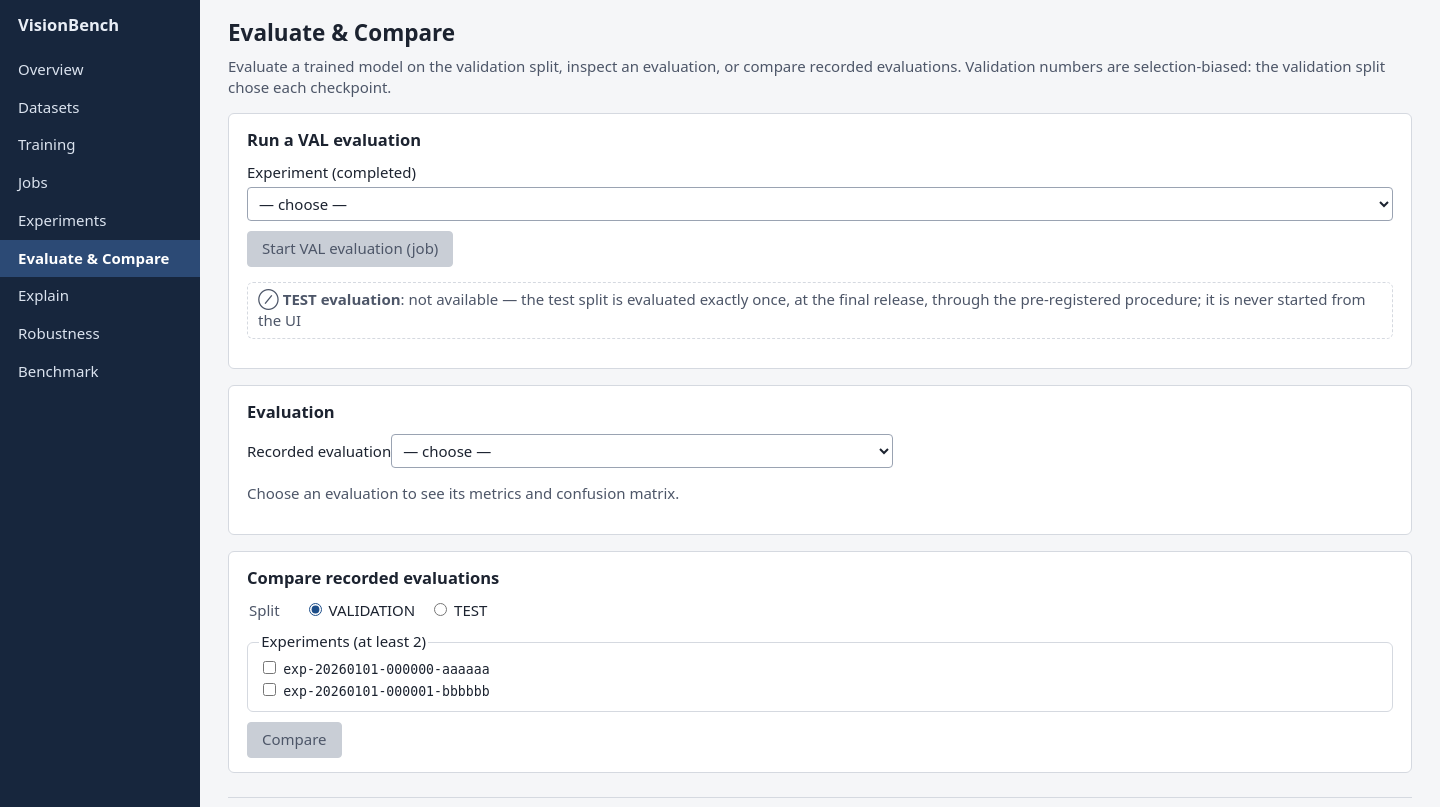
Test: Evaluate & Compare › compares experiments and shows CIs, paired differences, confounds and the bias note
Click the checkbox labelled "exp-20260101-000000-aaaaaa" at [270, 668], box [263,661,276,674]
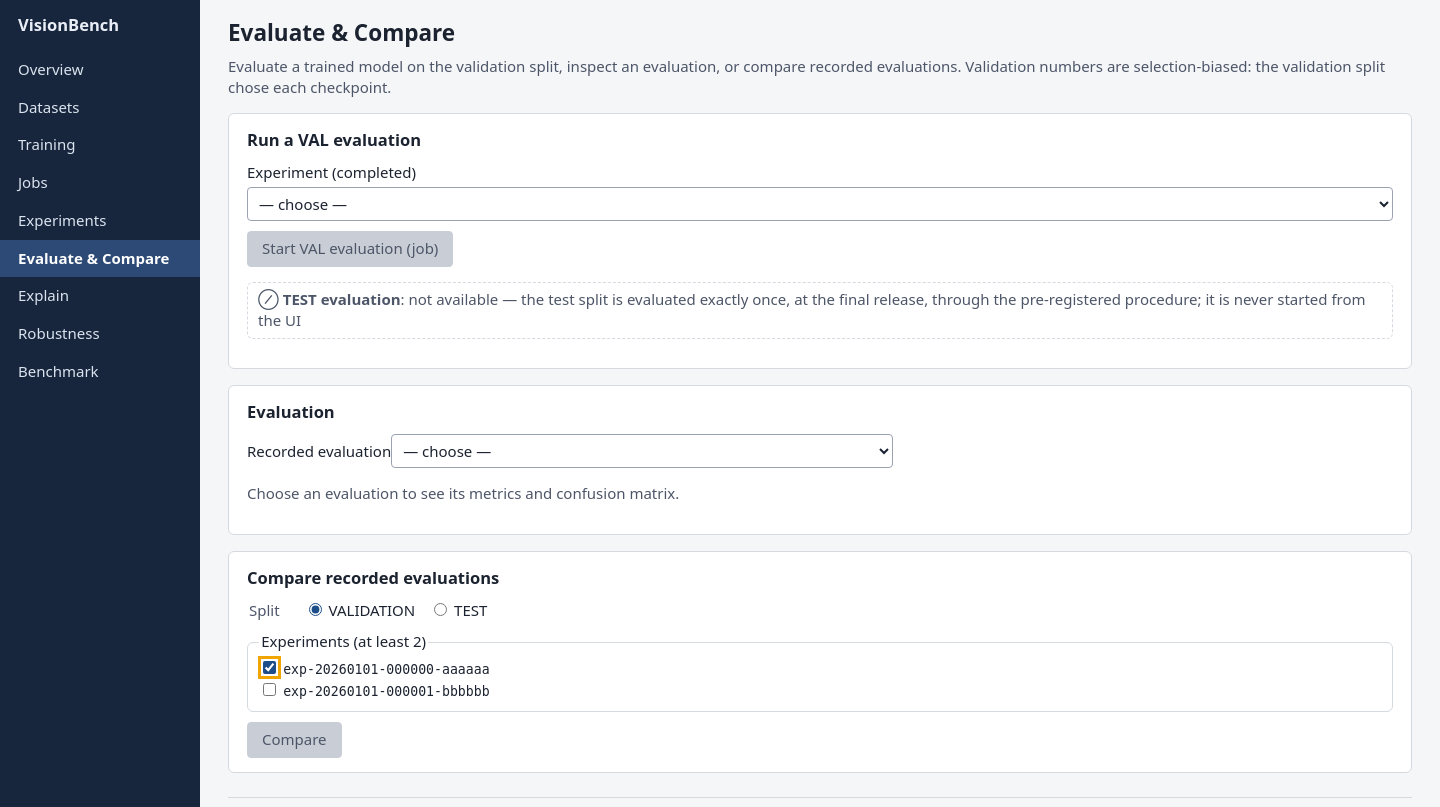
Click the checkbox labelled "exp-20260101-000001-bbbbbb" at [270, 690], box [263,683,276,696]
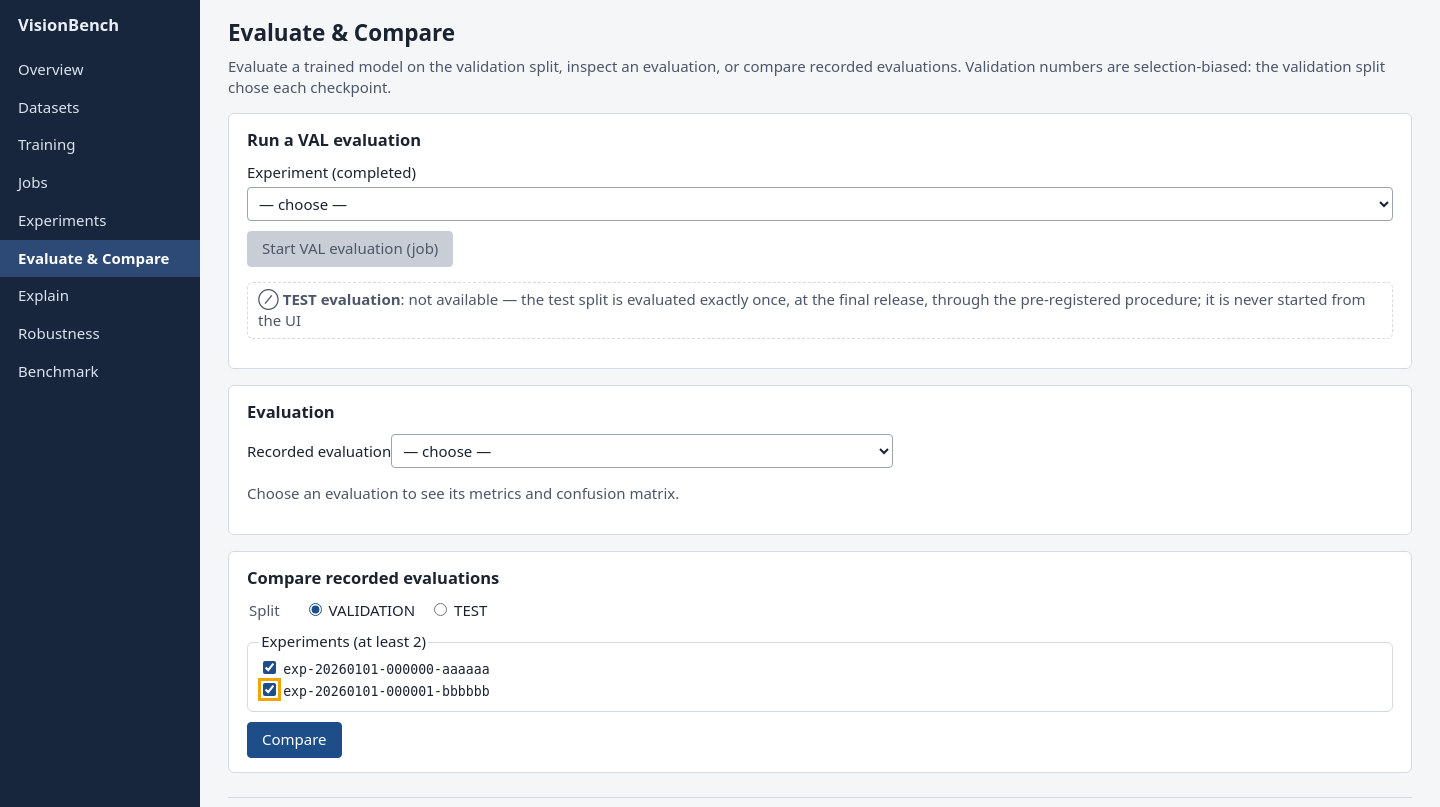
Click the button "Compare" at [294, 740], box [247,722,342,758]
(page scrolled)
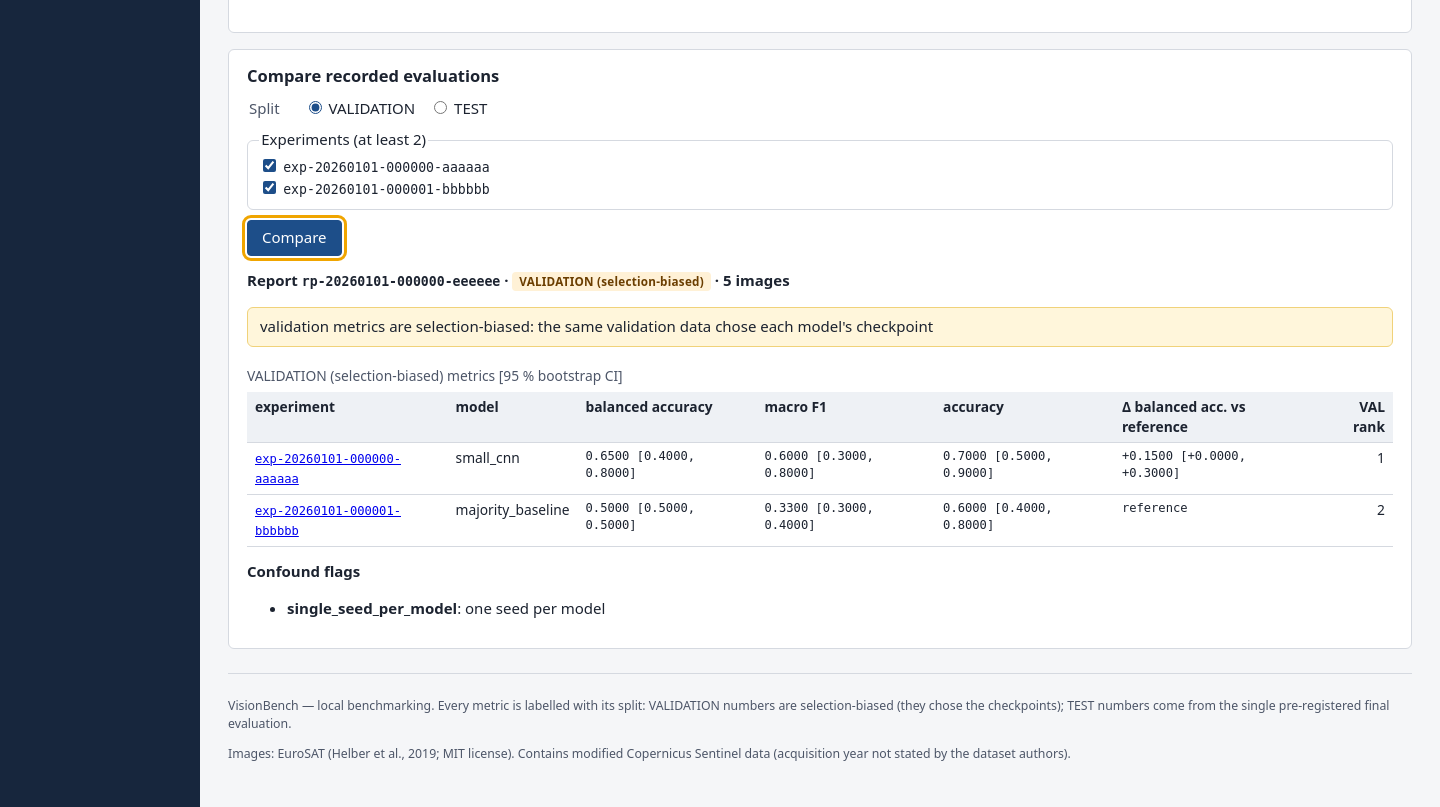
expect the text "selection-biased: the same validation data" is shown: met, box [260,316,933,336]
expect the text "0.6500 [0.4000, 0.8000]" is shown: met, box [578,442,756,494]
expect the text "+0.1500 [+0.0000, +0.3000]" is shown: met, box [1114,442,1317,494]
